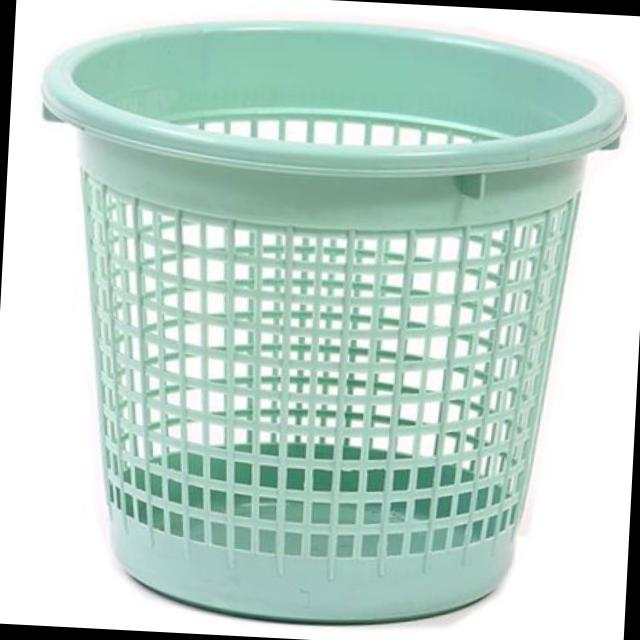dustbin: (7, 3, 637, 640)
